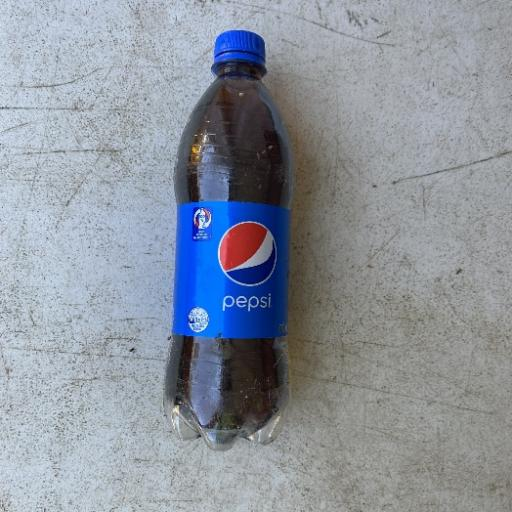Plastic: (161, 28, 297, 452)
